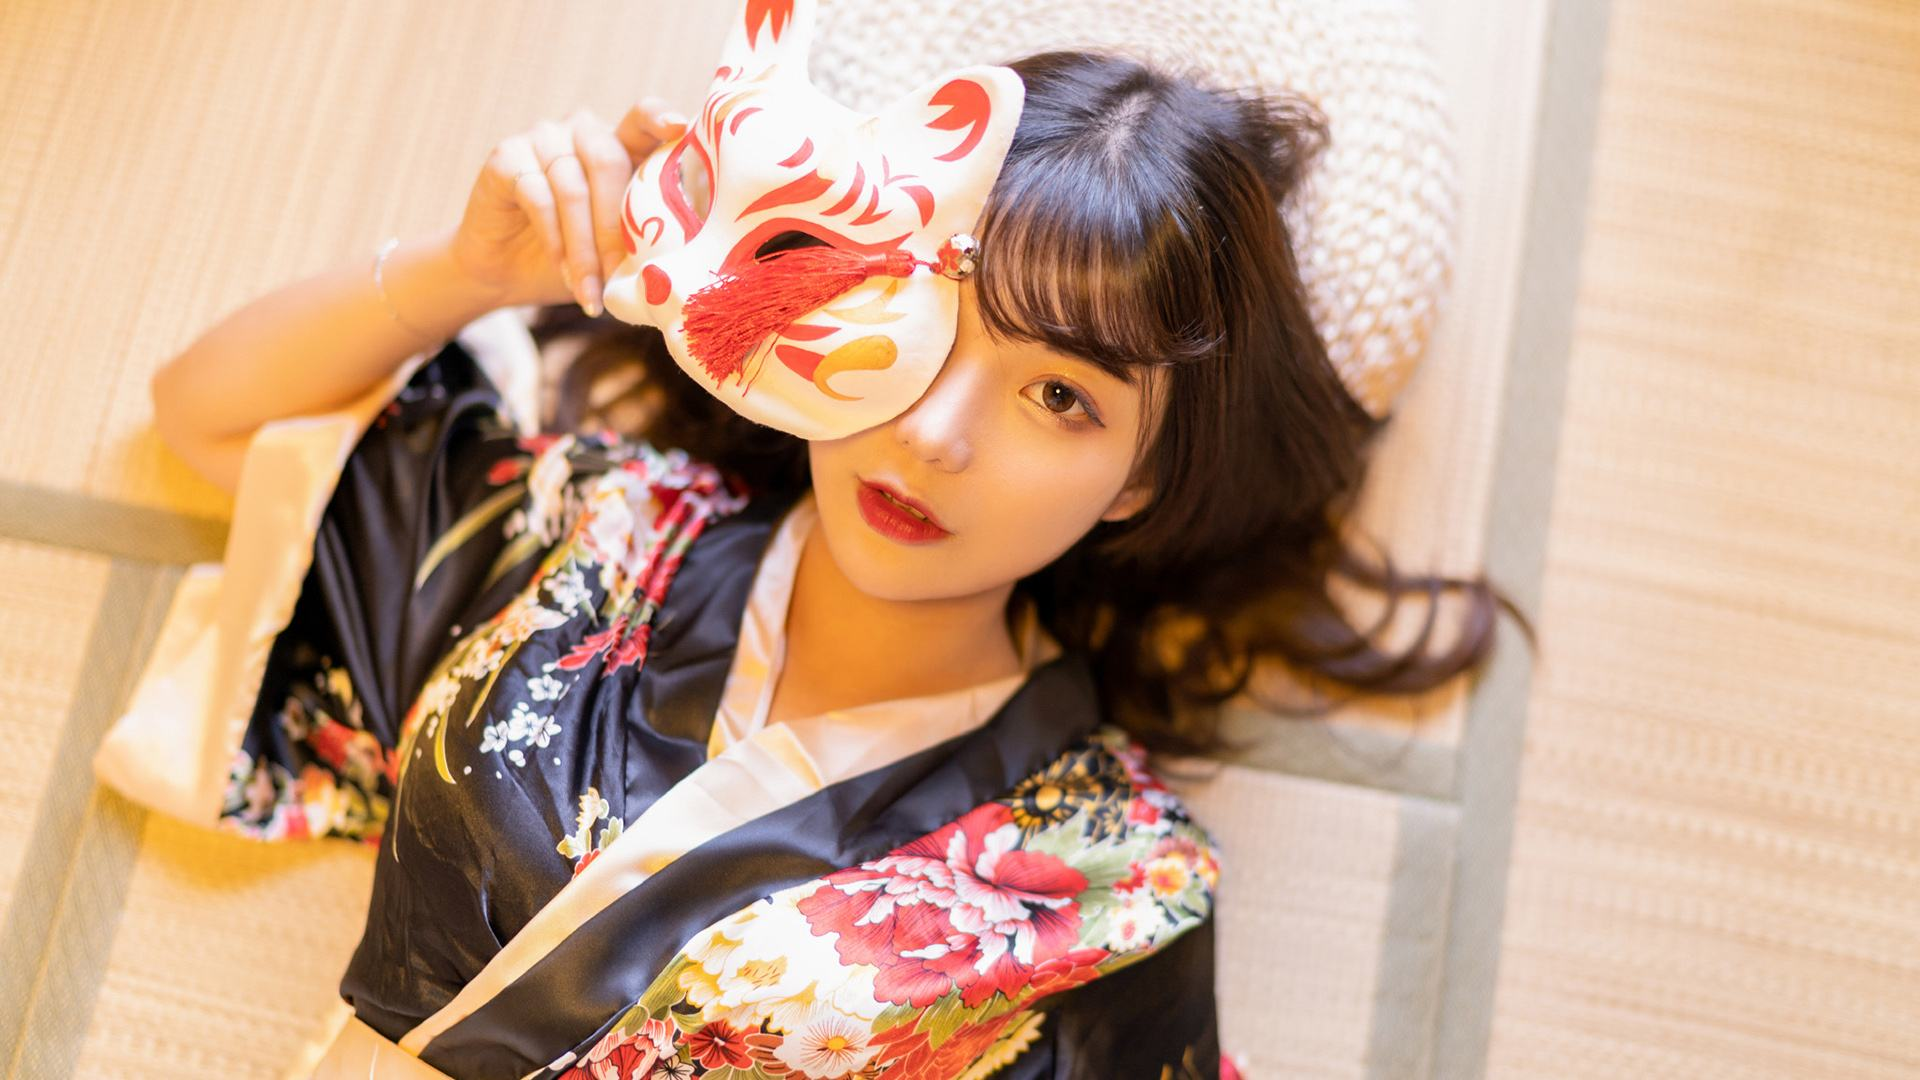person: (236, 69, 1338, 1045)
